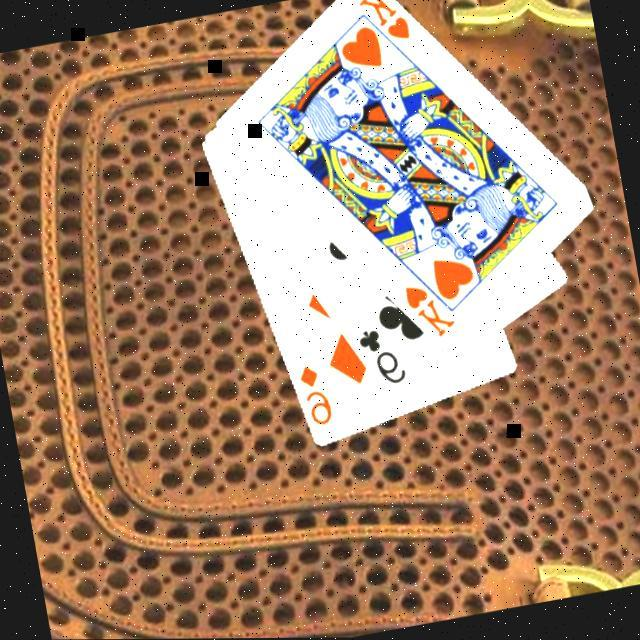6C: (354, 322, 413, 394)
9D: (296, 359, 339, 433)
KH: (401, 276, 463, 347), (353, 0, 417, 52)
